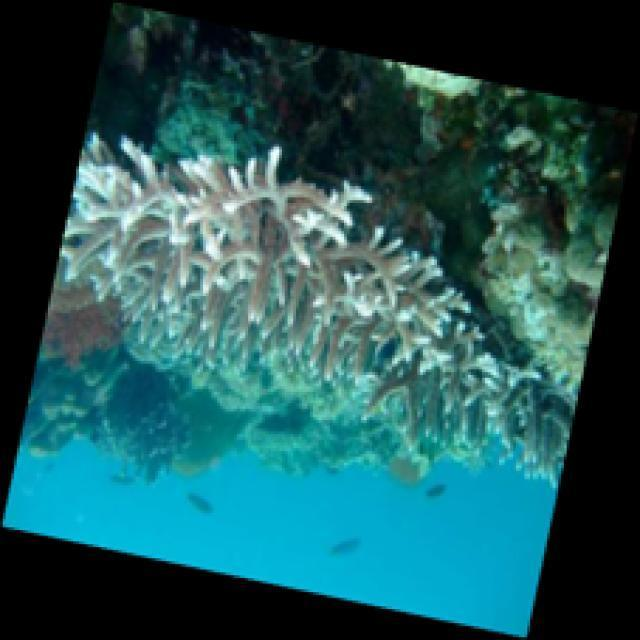Bleached: (61, 132, 548, 426)
